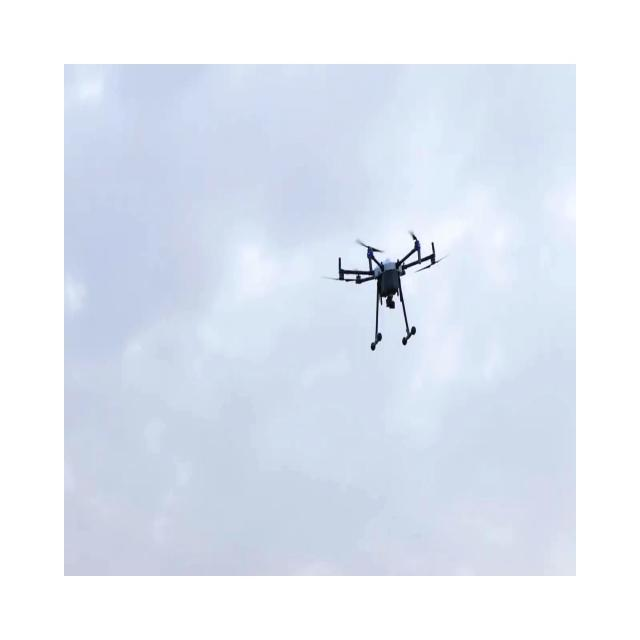drone: (321, 230, 449, 351)
